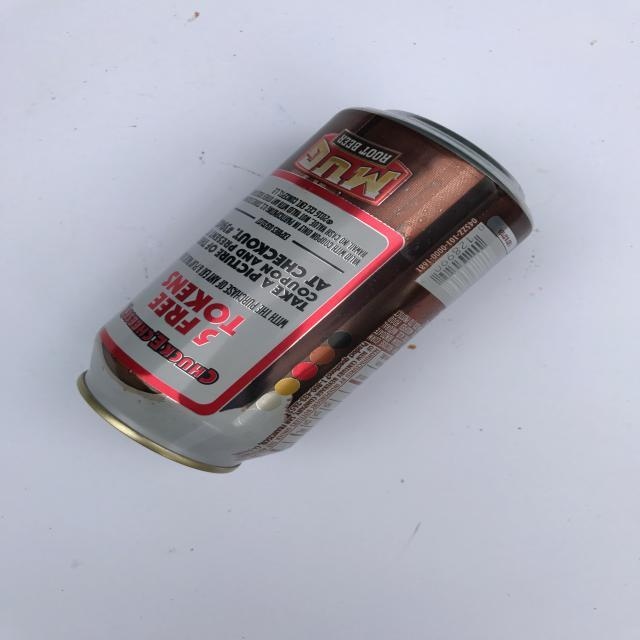metal: (76, 106, 535, 474)
